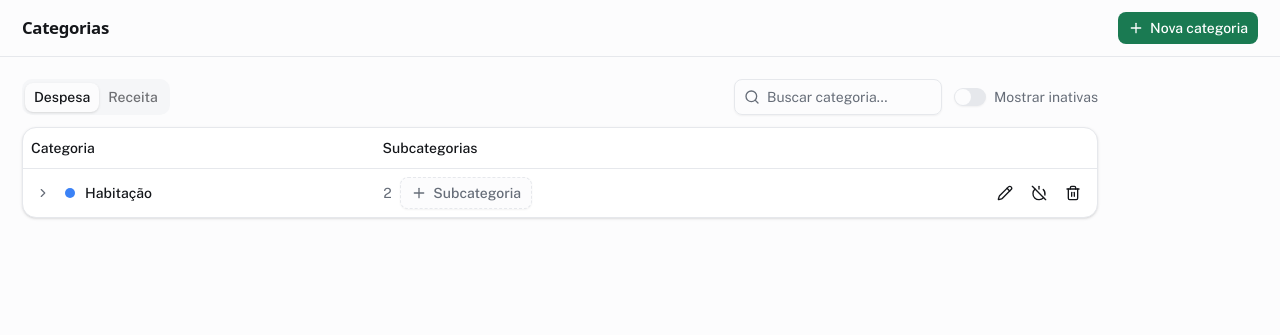
CategoriesPage › keeps children collapsed until the caret is clicked
The image size is (1280, 335).
Expected: the text "Habitação" is shown, x1=85 y1=182 x2=152 y2=202
Expected: the text "Renda" is not shown
Click the button named "Expandir Habitação": [43, 192] box x1=31 y1=180 x2=55 y2=204
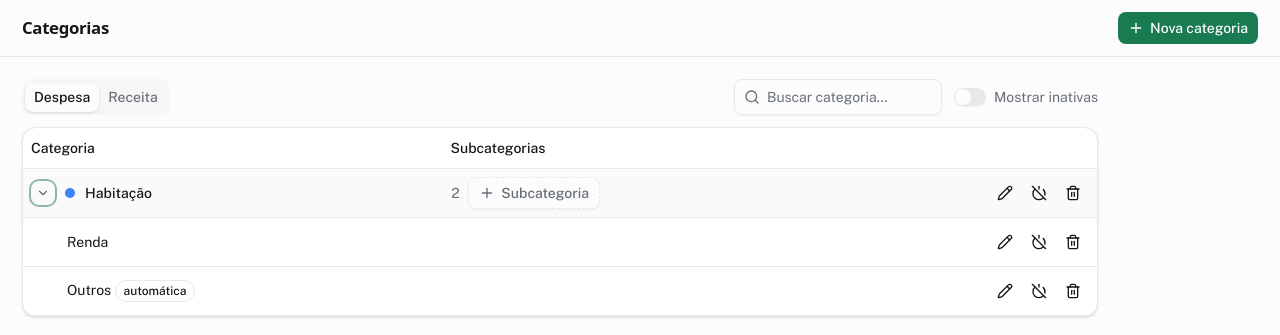
Expected: the text "Renda" is shown, x1=67 y1=234 x2=108 y2=250
Expected: the button named "Recolher Habitação" is expanded, x1=31 y1=180 x2=55 y2=204
